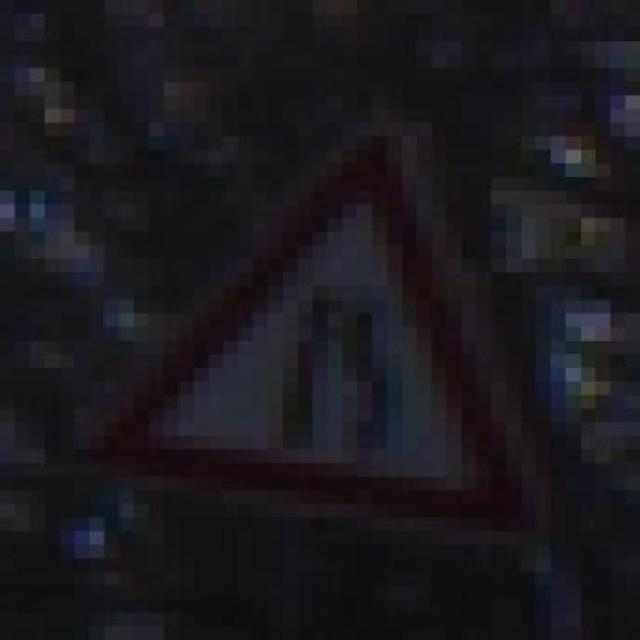-Road narrows on right: (89, 122, 551, 546)
